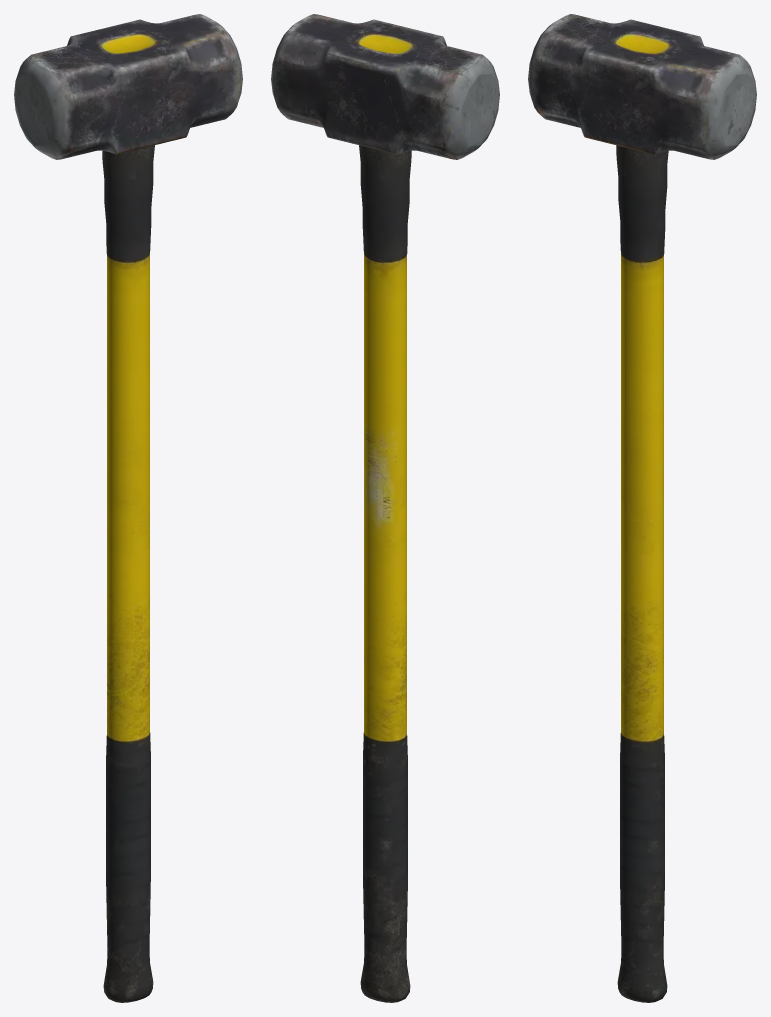
Rendered from sledgehammer_01.glb.
3 views of the same model, side by side, from view 1: azimuth 30°, elevation 25°; view 2: azimuth 150°, elevation 25°; view 3: azimuth 330°, elevation 25° (orthographic).
Visible parts, largest first — view 1: sledgehammer_01; view 2: sledgehammer_01; view 3: sledgehammer_01.
Boxes of the visible parts, <box> form: sledgehammer_01: <box>14,14,242,1002</box>; sledgehammer_01: <box>271,14,499,1002</box>; sledgehammer_01: <box>528,14,756,1002</box>.
Bounding box in the file's own units: 0.2084 × 1.01 × 0.0906.
1 material, 1 textured.
